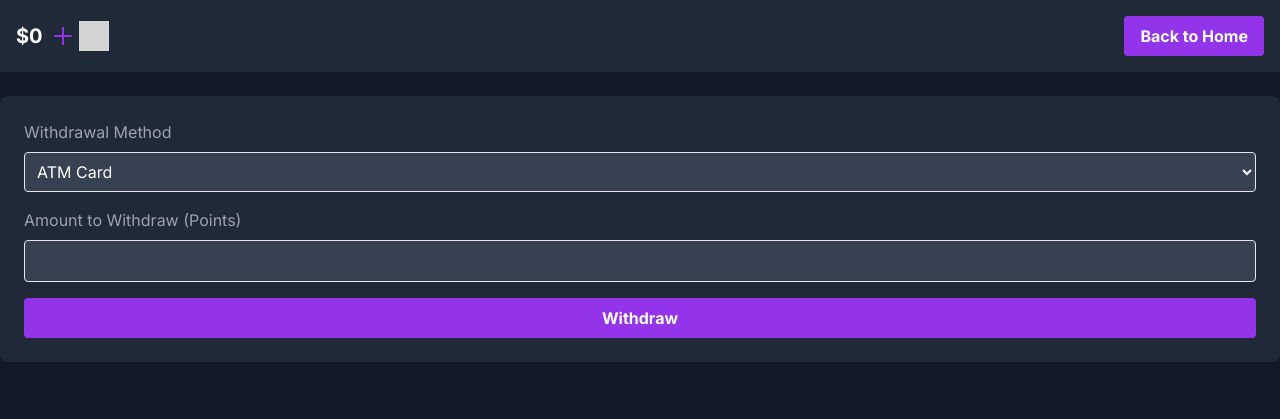
Test: Withdraw Page › menampilkan jumlah yang akan diterima saat input amount
This screenshot has width=1280, height=419.
Type "10" into the number field labelled "Amount to Withdraw (Points)" at (640, 261), box [24,240,1256,282]
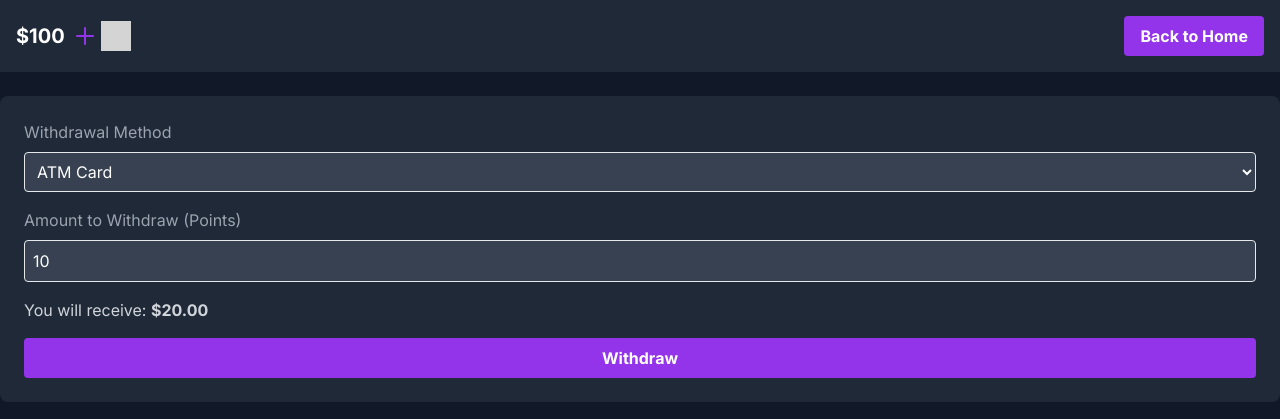
Expected: the text "You will receive: $20.00" is shown, [24,300,208,320]
Expected: the text "$20.00" is shown, [151,300,208,320]
